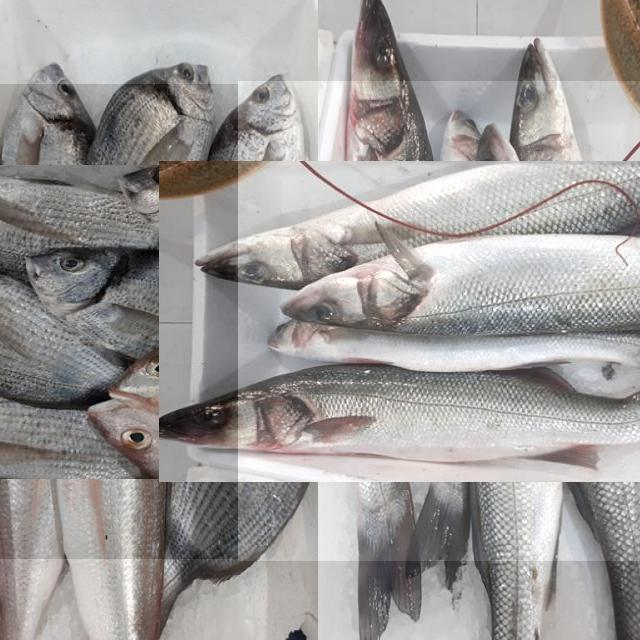Healthy Fish: (238, 81, 640, 561), (0, 84, 395, 559)
